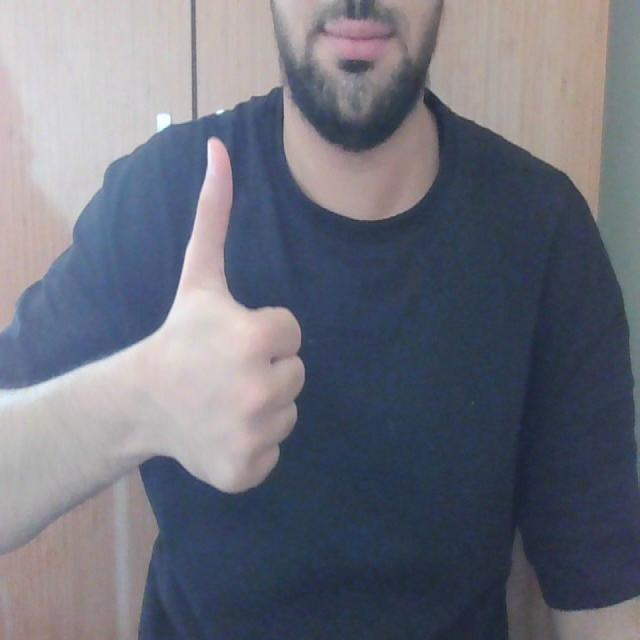Tamam: (152, 129, 312, 500)
